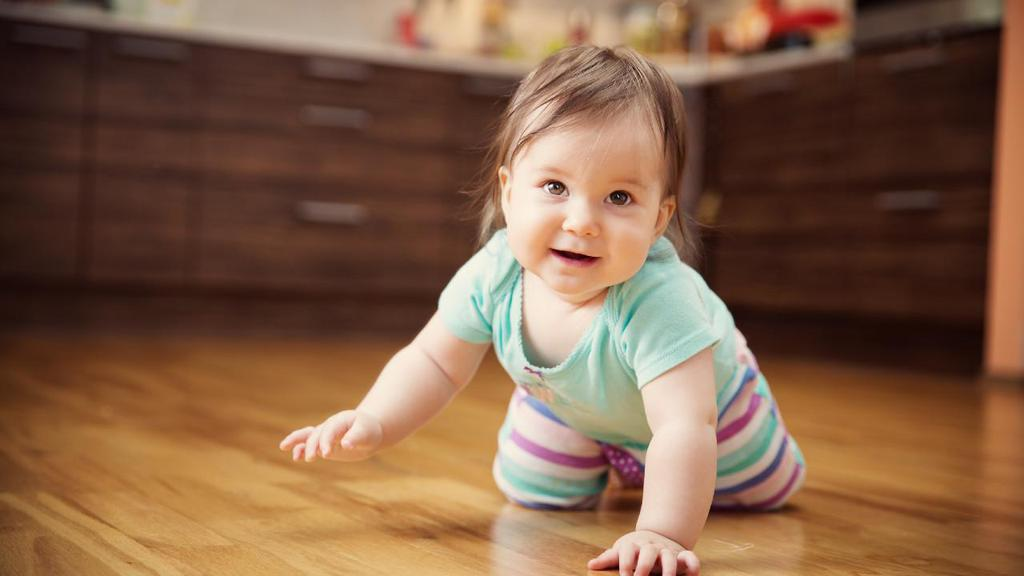child: (261, 35, 827, 570)
